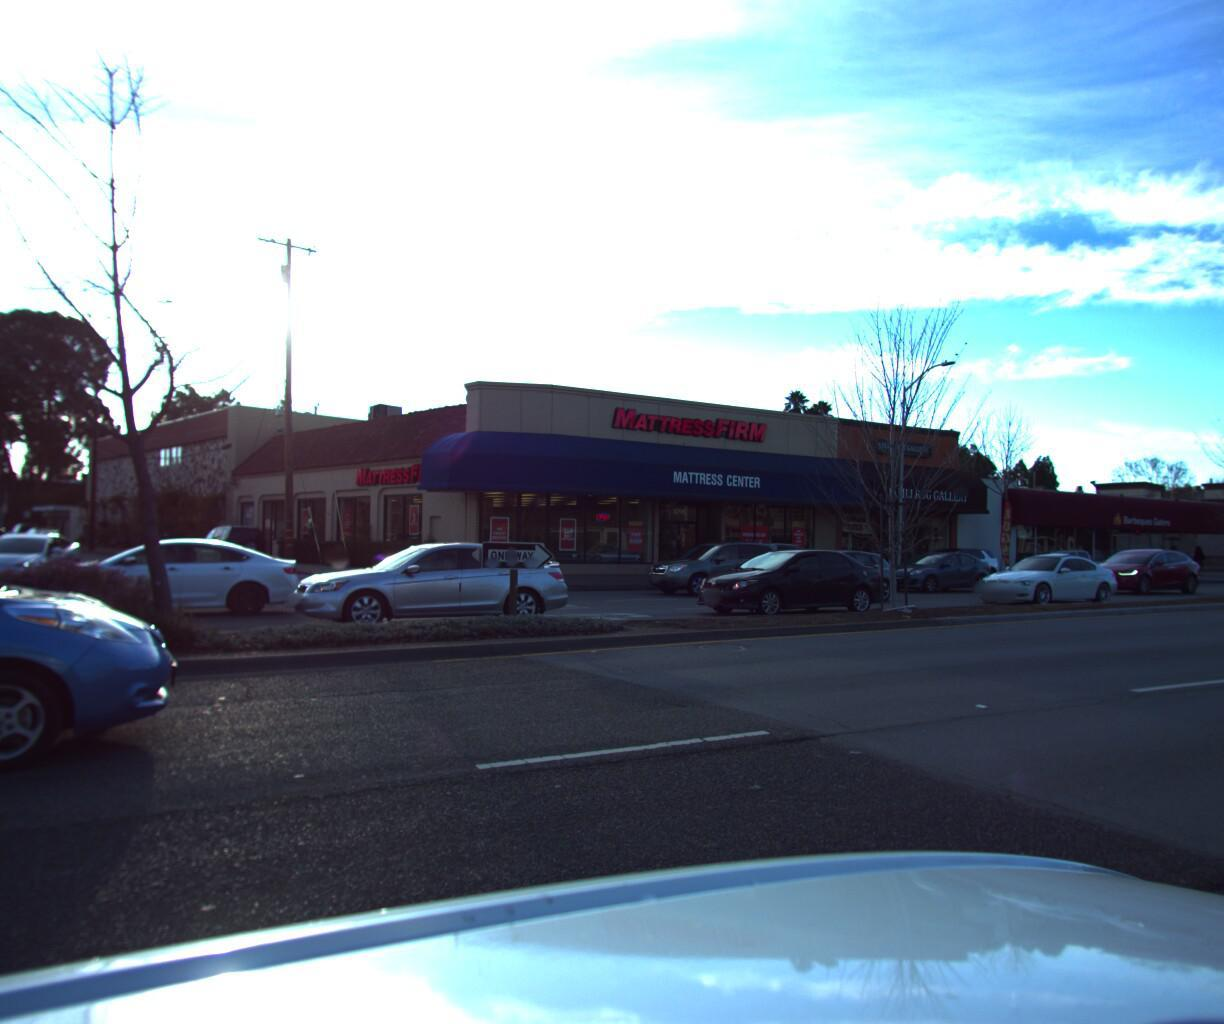car: (278, 530, 576, 638), (15, 532, 306, 625), (684, 539, 891, 617), (964, 545, 1128, 606), (638, 536, 803, 594), (687, 535, 815, 589), (874, 542, 1004, 592), (1079, 544, 1200, 593), (889, 542, 1002, 583), (186, 522, 277, 570), (1002, 541, 1107, 582), (23, 524, 70, 547), (1217, 542, 1224, 594)
